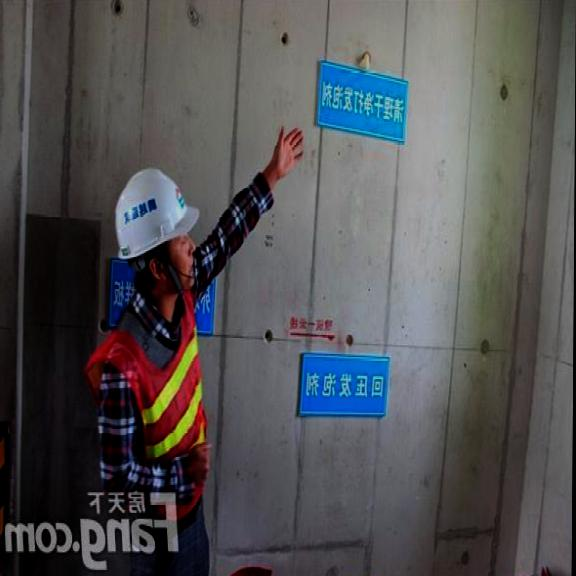safety_vest: (97, 290, 210, 536)
